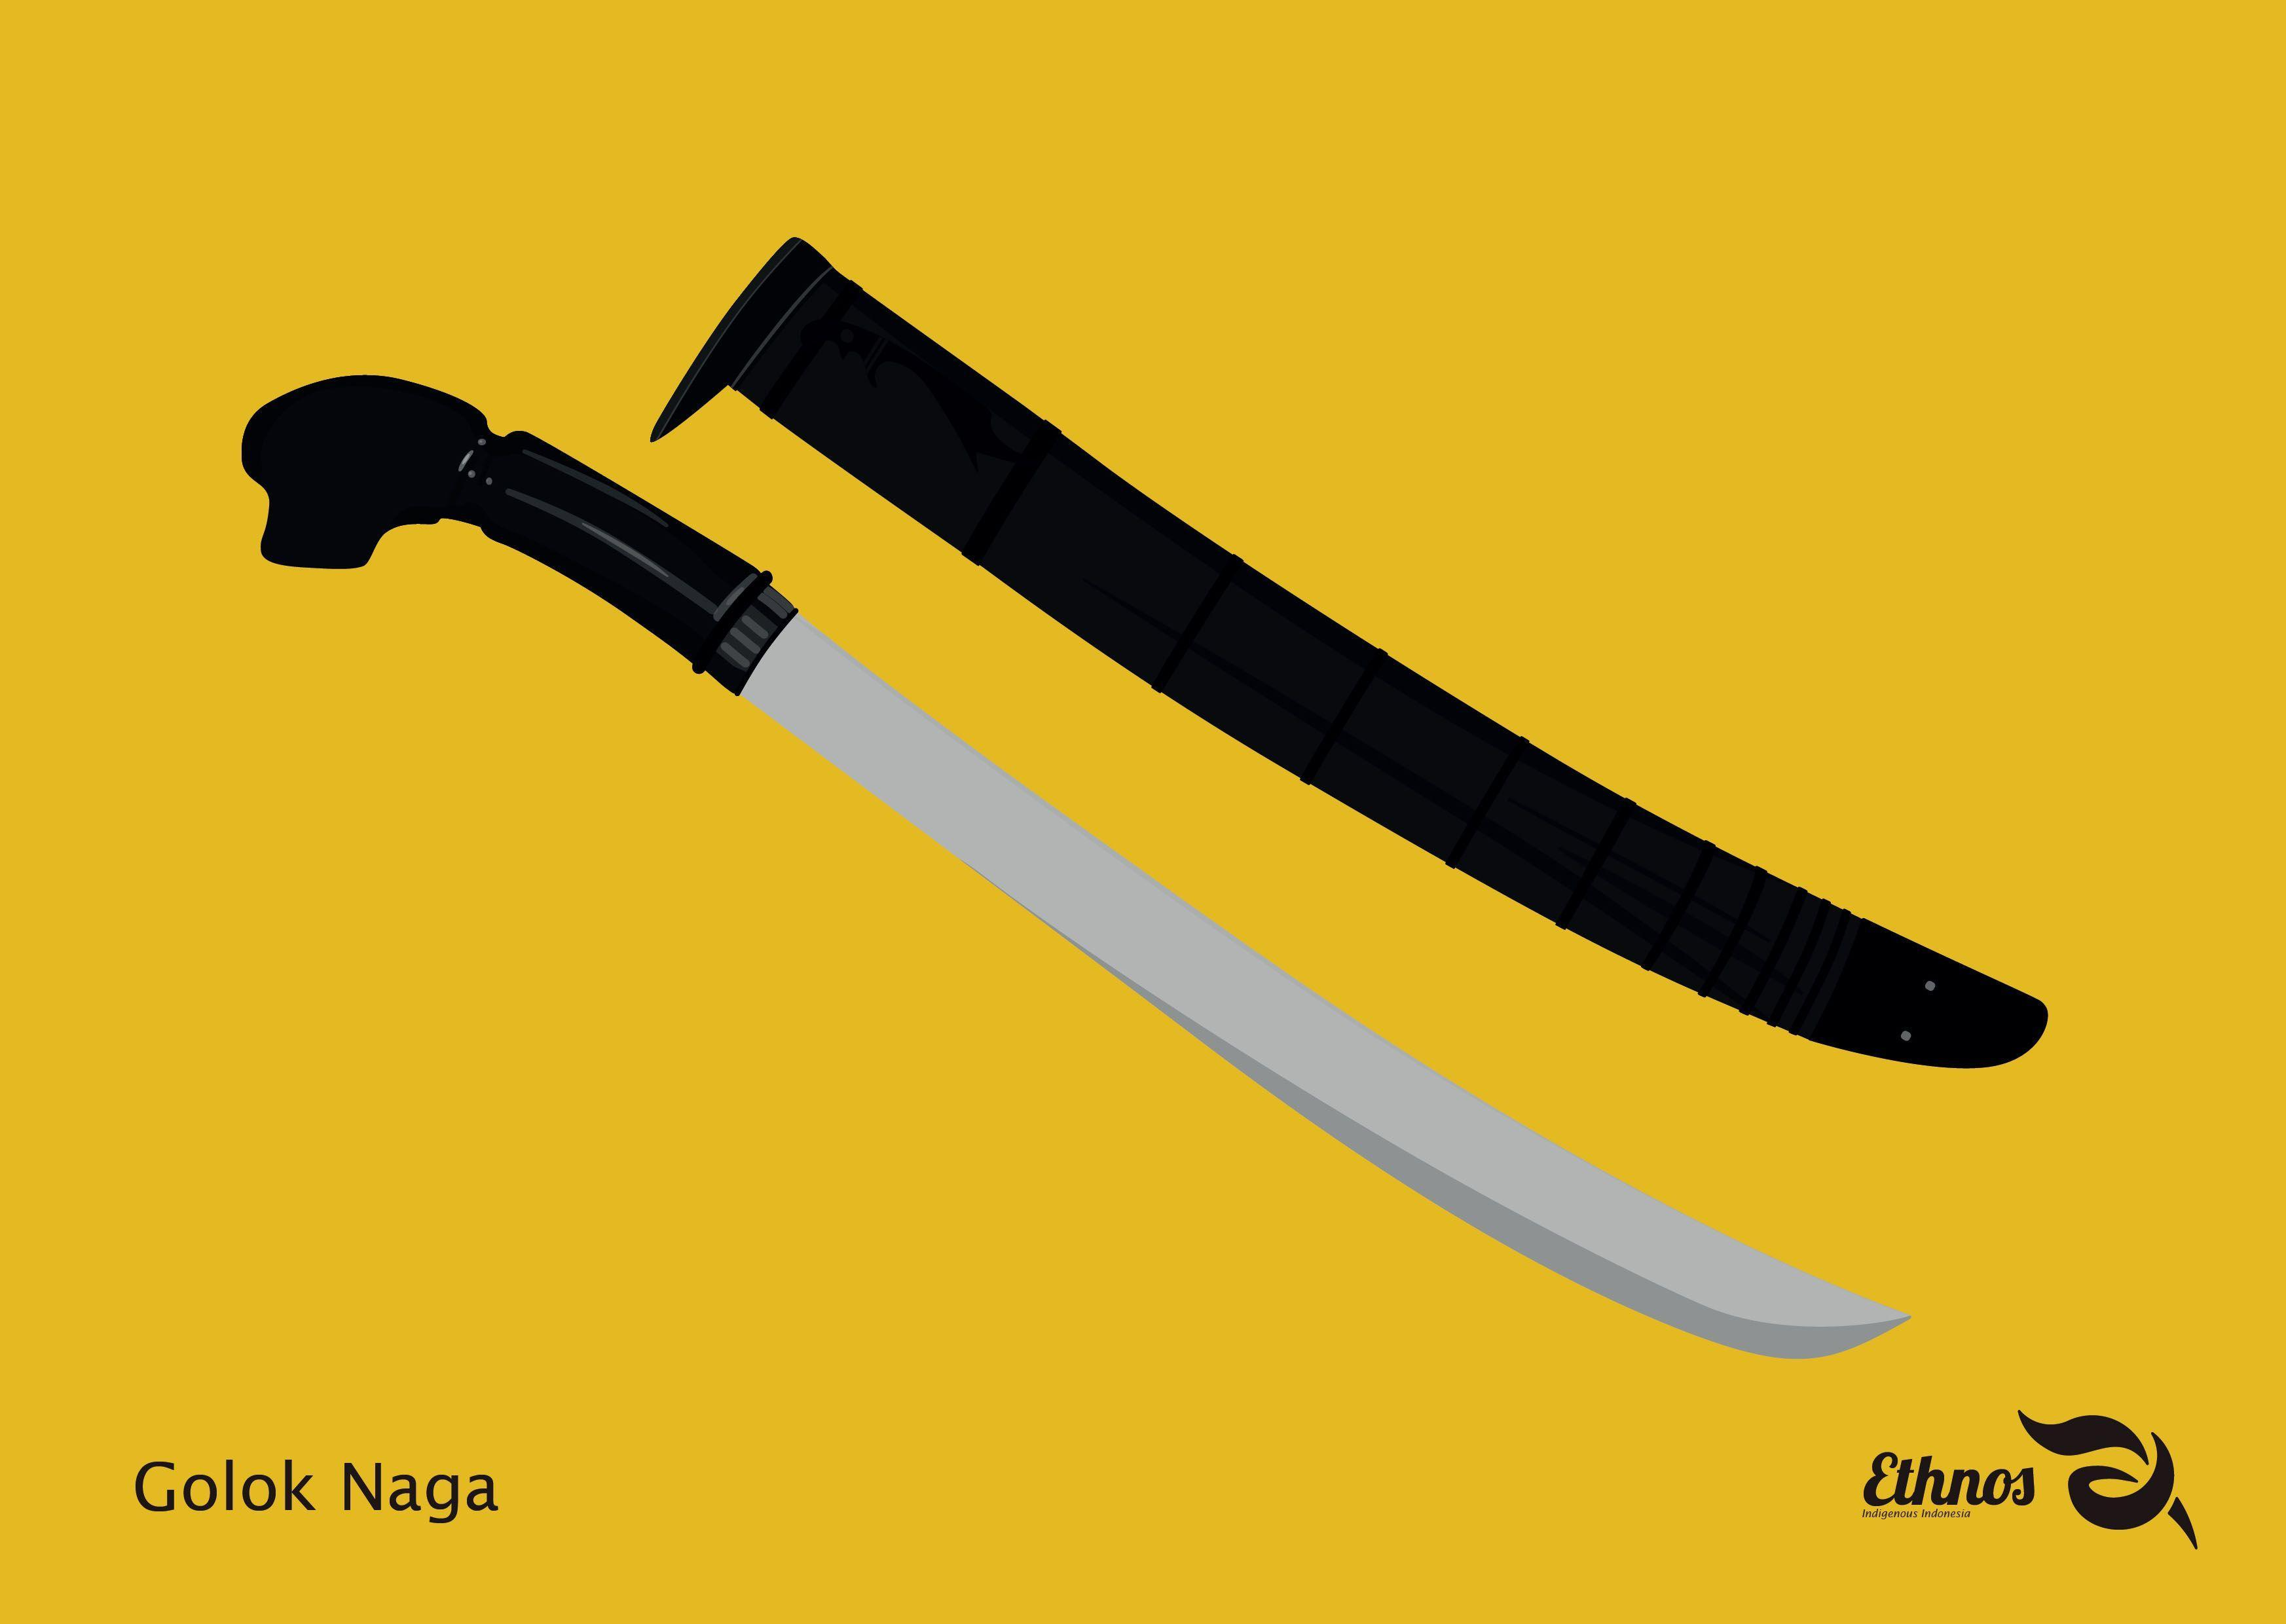facao: (213, 355, 2012, 1359)
